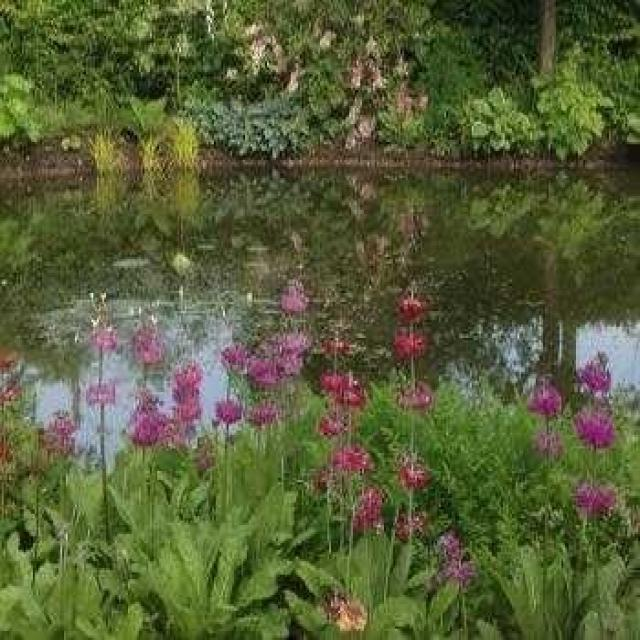Ponds: (6, 150, 636, 461)
